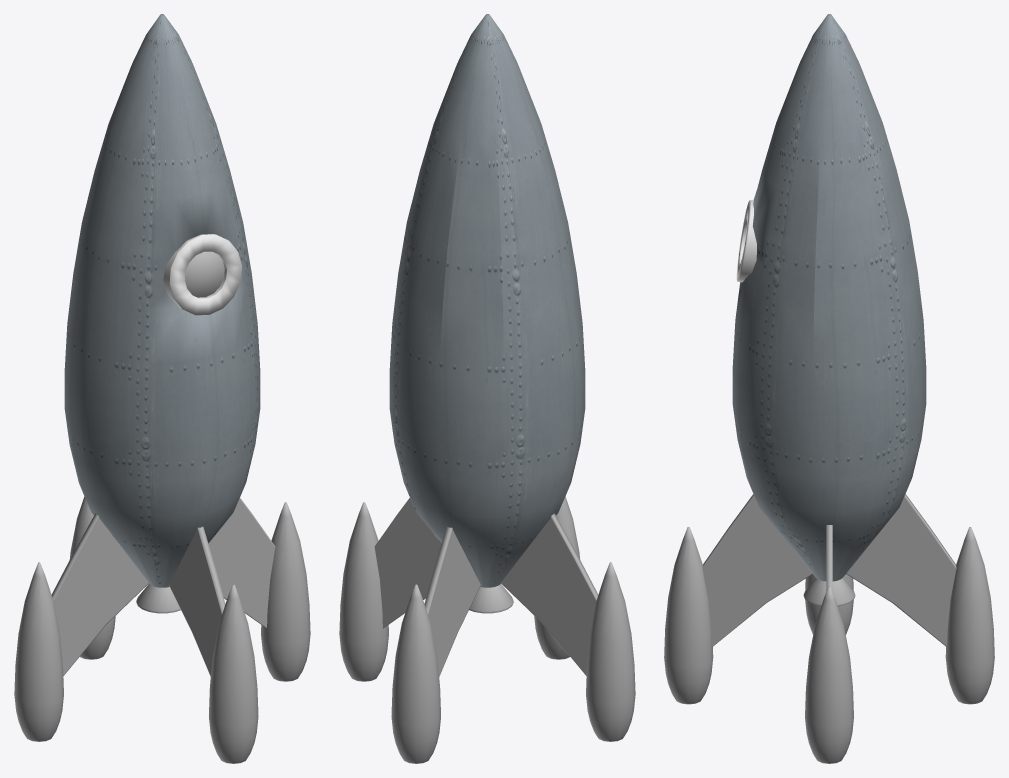
The model's file is Rocket.fbx.
3 renders of one model, left to right at view 1: azimuth 30°, elevation 25°; view 2: azimuth 150°, elevation 25°; view 3: azimuth 270°, elevation 25°, orthographic.
Visible parts, largest first — view 1: rocket_02:rocket; view 2: rocket_02:rocket; view 3: rocket_02:rocket.
Part boxes in pixels (x1=…): rocket_02:rocket: x1=14, y1=14, x2=310, y2=763; rocket_02:rocket: x1=339, y1=14, x2=635, y2=763; rocket_02:rocket: x1=664, y1=14, x2=994, y2=763.
Size of the model in its own units: 7.15 by 16.3 by 7.15.
